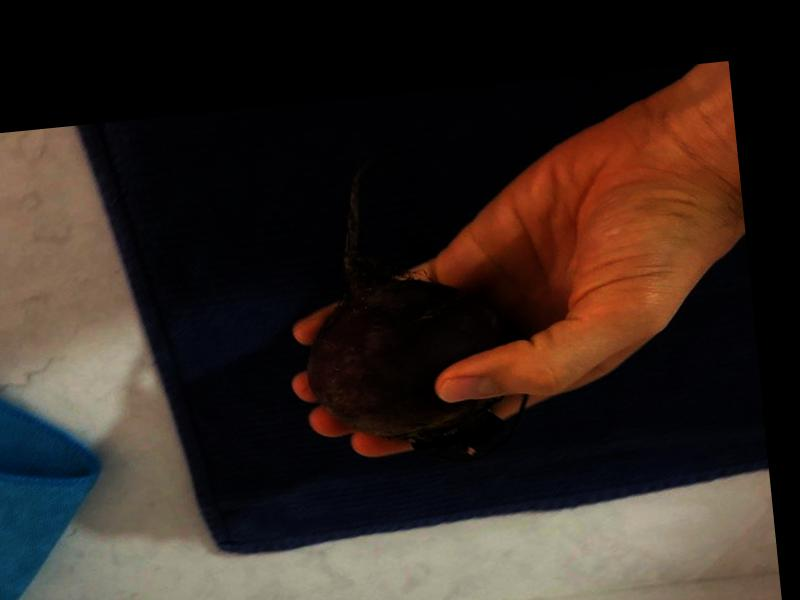Beet: (288, 146, 535, 474)
